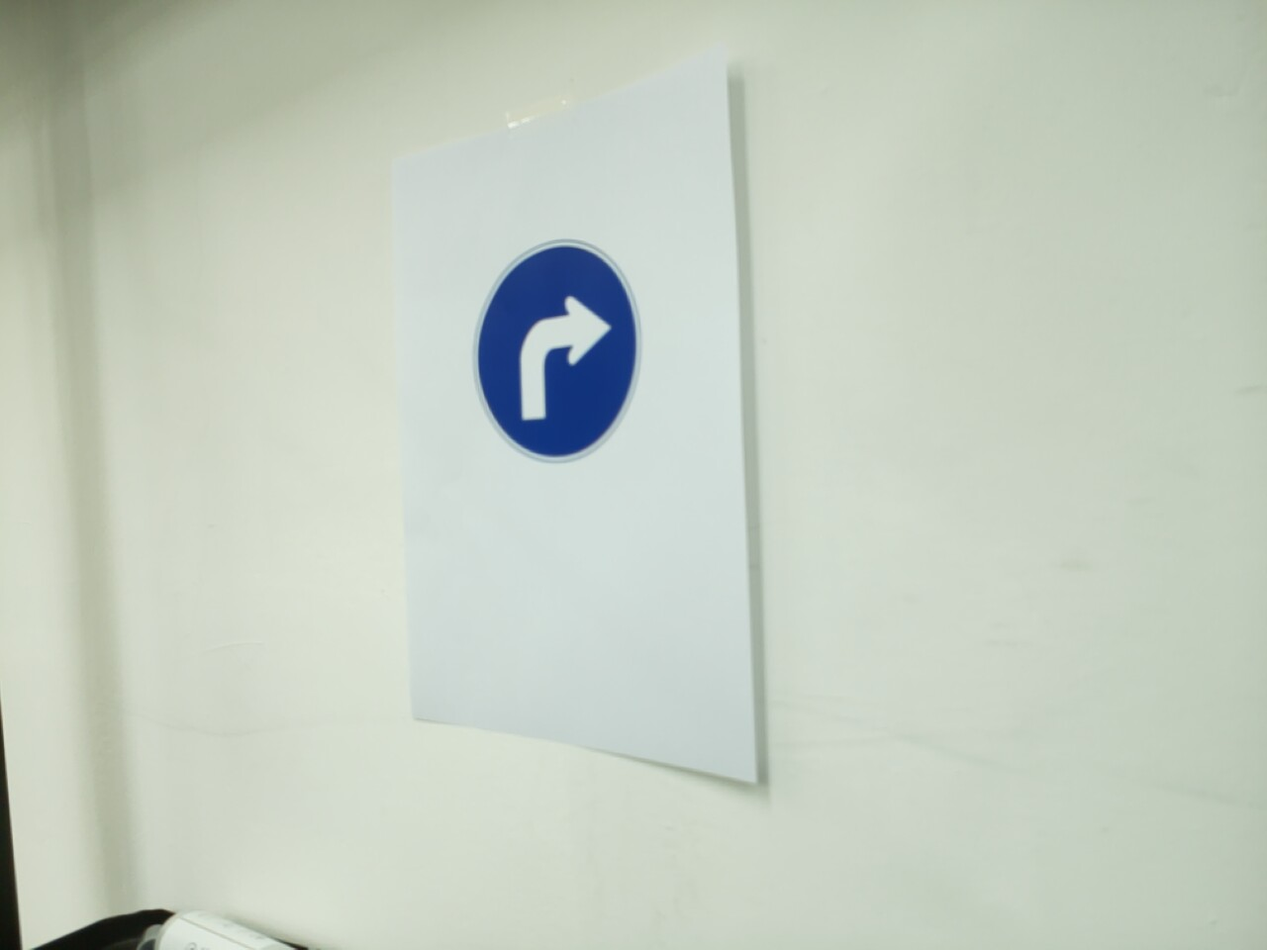right_turn: (471, 238, 643, 465)
